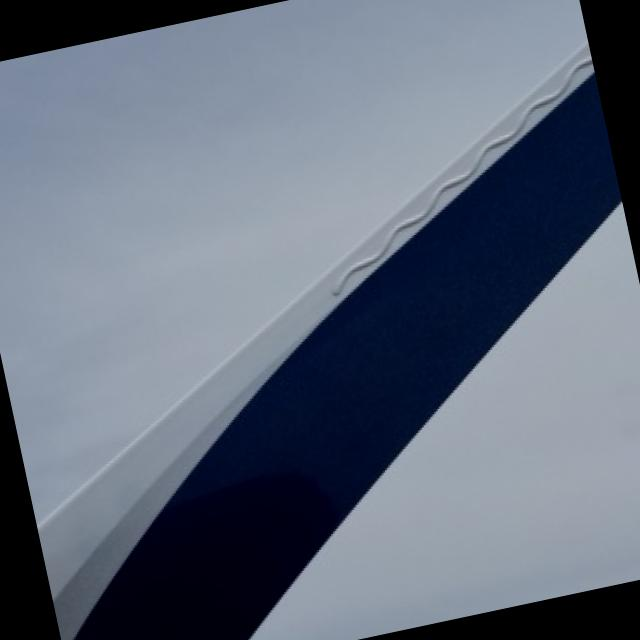healthy: (73, 72, 621, 640), (248, 204, 640, 640)
